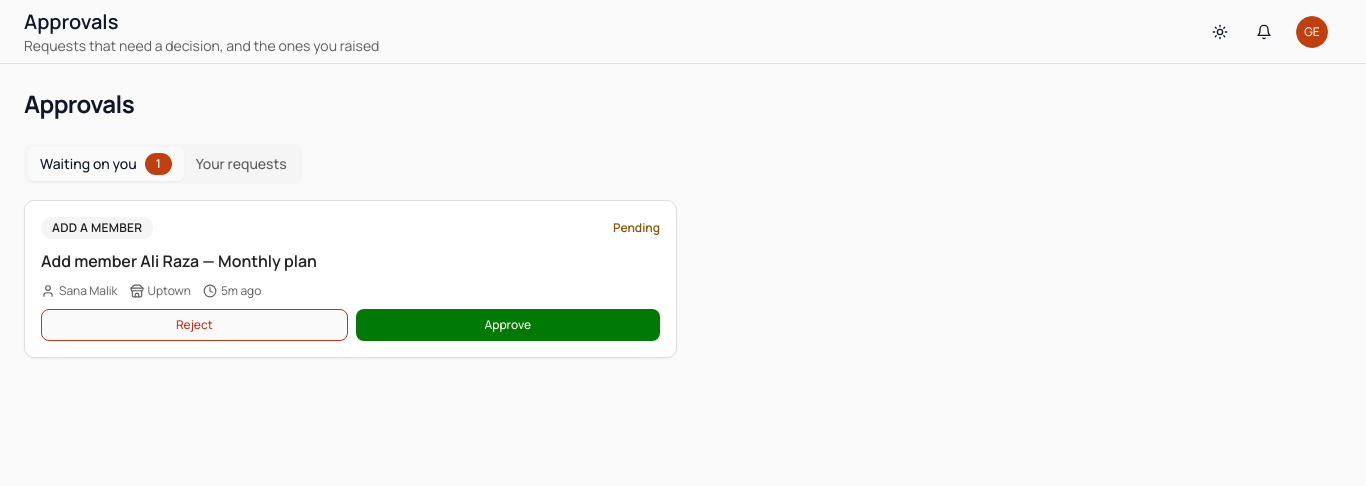
Test: ApprovalsPage (UX-13) › when the decision is refused (RBAC-04: 409 already decided), shows the reason and reloads the list
This screenshot has width=1366, height=486.
Click the button "Approve". click: (508, 325)
box: [356, 309, 660, 341]
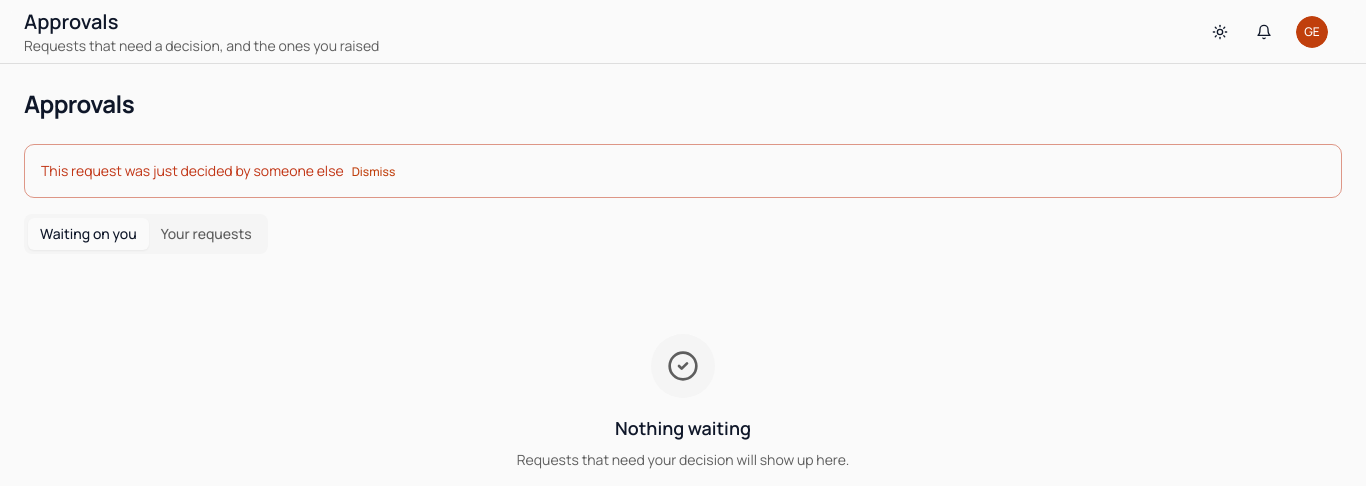
expect the message with test id "decision-error" shows "This request was just decided by someone else": met, box [41, 161, 344, 180]
expect the heading "Nothing waiting" is shown: met, box [615, 414, 751, 442]
